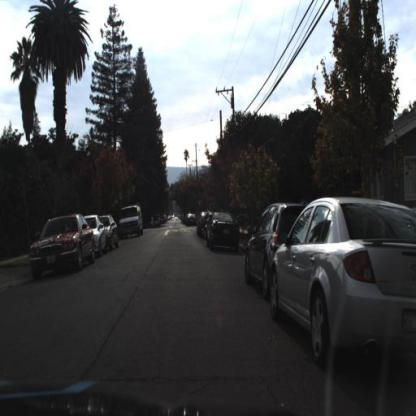car: (270, 191, 416, 372), (269, 196, 416, 372), (242, 194, 314, 297), (244, 199, 308, 303), (28, 211, 97, 279), (205, 211, 241, 251), (81, 214, 110, 259), (96, 214, 125, 252), (83, 212, 106, 257), (118, 203, 145, 239), (121, 206, 144, 242), (103, 213, 119, 250), (204, 212, 216, 244), (186, 213, 199, 229), (144, 215, 156, 231)
